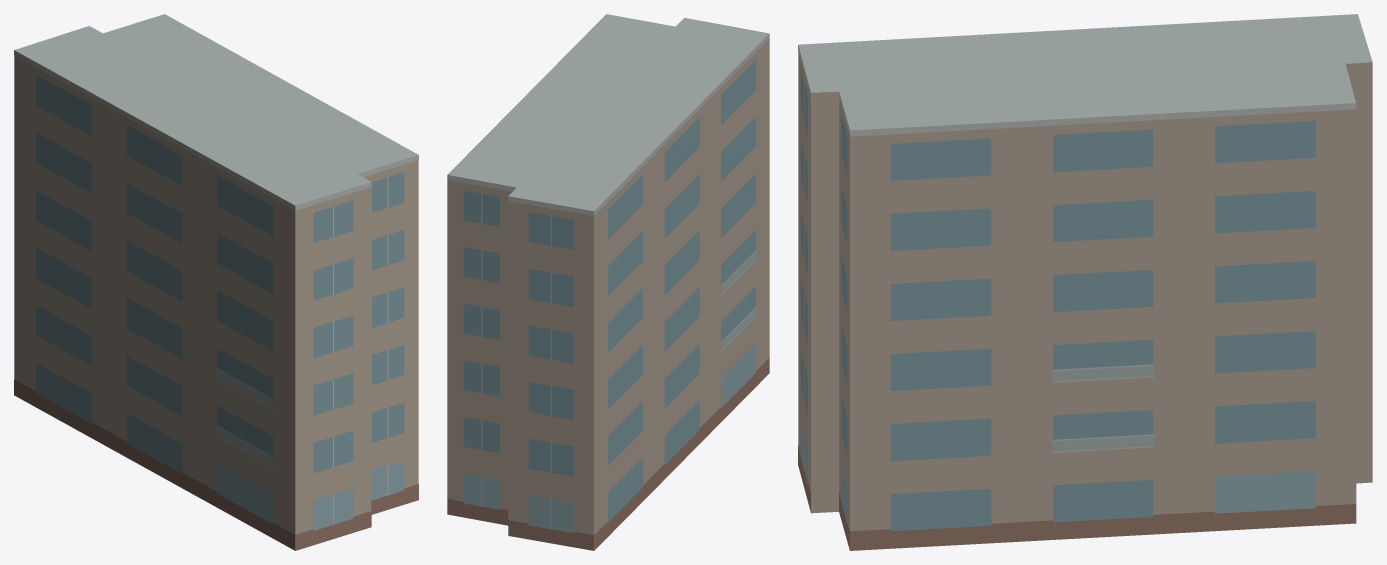
The model's file is survey-upis-32947507.glb.
3 renders of one model, left to right at view 1: azimuth 30°, elevation 25°; view 2: azimuth 150°, elevation 25°; view 3: azimuth 270°, elevation 25°, orthographic. The views are drawn at different scales.
Visible parts, largest first — view 1: survey-upis-32947507.tmp; view 2: survey-upis-32947507.tmp; view 3: survey-upis-32947507.tmp.
Part boxes in pixels (x1,y1,x2,y2): survey-upis-32947507.tmp: (14,14,418,550); survey-upis-32947507.tmp: (447,14,769,550); survey-upis-32947507.tmp: (798,14,1372,550).
Size of the model in its own units: 9.88 by 16.6 by 20.57.
